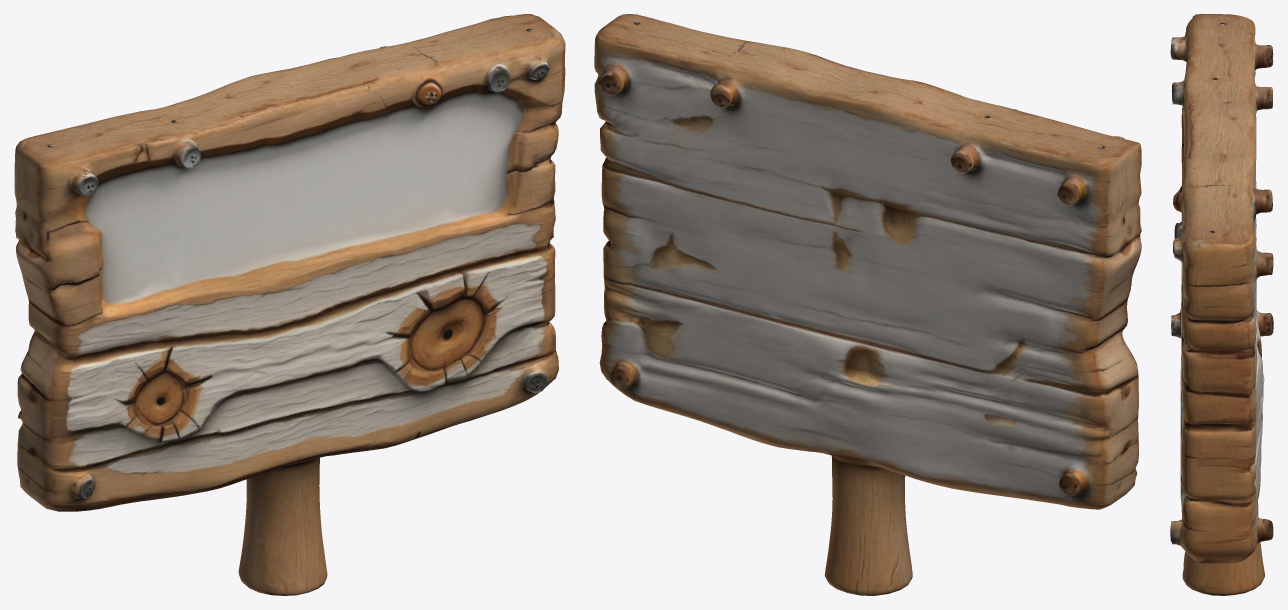
File: wood_sign_cartoon.glb
3 views of the same model, side by side, from view 1: azimuth 30°, elevation 25°; view 2: azimuth 150°, elevation 25°; view 3: azimuth 270°, elevation 25° (orthographic). The views are drawn at different scales.
Size of the model in its own units: 2 by 1.81 by 0.3691.
Materials: 1 (1 with a texture image).
